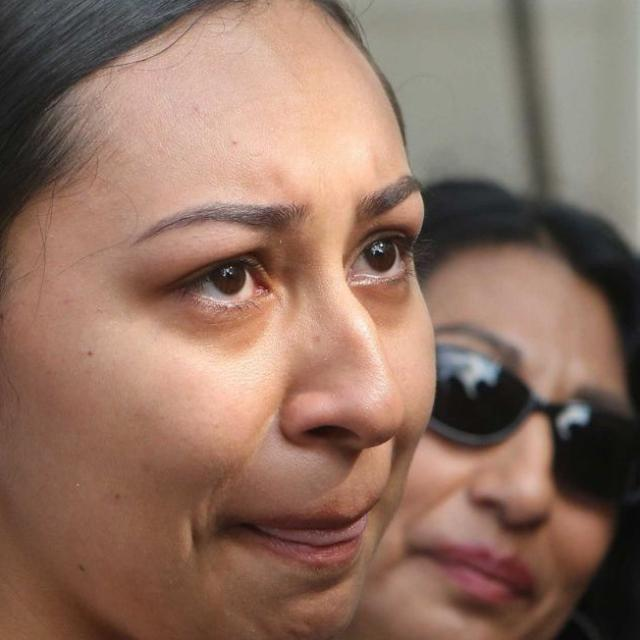Depress: (0, 0, 442, 639)
